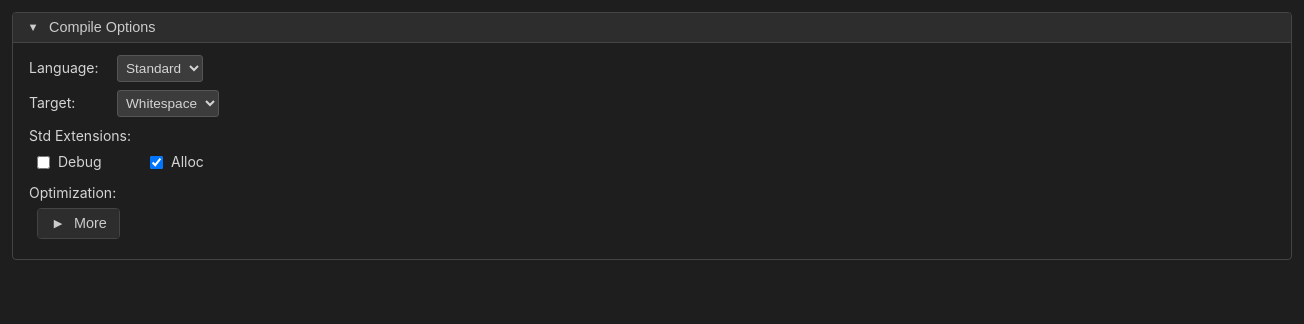
CompileOptions › Opt Passes › props で optPassOptions を注入できる
The image size is (1304, 324).
'all' 以外の項目は More セクション内に入るため、展開してから確認
Click the button "▶ More": click(78, 223) [38,209,119,238]
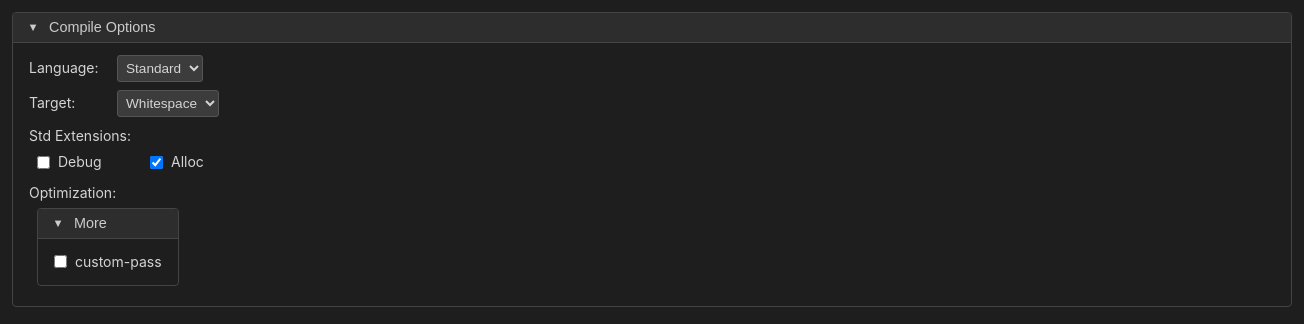
expect the checkbox labelled "custom-pass" is shown: met, box [54,255,67,268]
